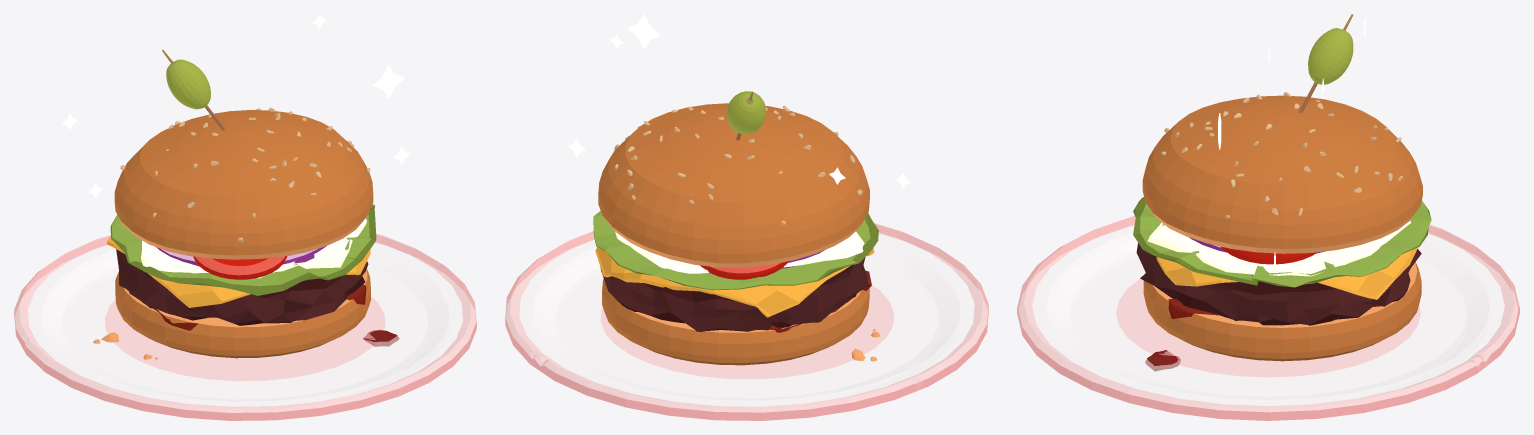
3 views of the same model, side by side, from view 1: azimuth 30°, elevation 25°; view 2: azimuth 150°, elevation 25°; view 3: azimuth 270°, elevation 25° (orthographic). The views are drawn at different scales.
Visible parts, largest first — view 1: plate _10, top bread_15, bottom bread_16, meat_7, lettuce_5, mayonnaise_6, cheese_2, olive_8, tomatoes_14, katsup_4, stars_12, sesame_11 (+1 smaller); view 2: plate _10, top bread_15, bottom bread_16, meat_7, lettuce_5, cheese_2, mayonnaise_6, olive_8, stars_12, sesame_11, tomatoes_14; view 3: plate _10, top bread_15, bottom bread_16, meat_7, lettuce_5, mayonnaise_6, cheese_2, olive_8, sesame_11, katsup_4, tomatoes_14.
Boxes of the visible parts, left/top/right/bottom form: plate _10: left=14, top=234, right=476, bottom=420; top bread_15: left=114, top=110, right=373, bottom=259; bottom bread_16: left=115, top=269, right=370, bottom=358; meat_7: left=116, top=249, right=368, bottom=325; lettuce_5: left=110, top=204, right=376, bottom=295; mayonnaise_6: left=141, top=218, right=366, bottom=278; cheese_2: left=107, top=237, right=370, bottom=307; olive_8: left=166, top=59, right=210, bottom=109; tomatoes_14: left=193, top=256, right=287, bottom=279; katsup_4: left=129, top=284, right=399, bottom=346; stars_12: left=62, top=14, right=410, bottom=198; sesame_11: left=120, top=107, right=370, bottom=242; plate _10: left=505, top=223, right=988, bottom=420; top bread_15: left=598, top=103, right=869, bottom=267; bottom bread_16: left=602, top=278, right=869, bottom=365; meat_7: left=600, top=257, right=868, bottom=331; lettuce_5: left=593, top=211, right=878, bottom=290; cheese_2: left=595, top=247, right=874, bottom=317; mayonnaise_6: left=615, top=231, right=864, bottom=273; olive_8: left=726, top=91, right=765, bottom=134; stars_12: left=568, top=14, right=910, bottom=188; sesame_11: left=614, top=105, right=862, bottom=225; tomatoes_14: left=700, top=261, right=788, bottom=279; plate _10: left=1017, top=215, right=1519, bottom=420; top bread_15: left=1142, top=95, right=1422, bottom=253; bottom bread_16: left=1143, top=262, right=1421, bottom=361; meat_7: left=1136, top=243, right=1421, bottom=325; lettuce_5: left=1133, top=197, right=1431, bottom=287; mayonnaise_6: left=1147, top=220, right=1410, bottom=276; cheese_2: left=1156, top=247, right=1417, bottom=299; olive_8: left=1308, top=28, right=1353, bottom=84; sesame_11: left=1161, top=92, right=1402, bottom=218; katsup_4: left=1145, top=299, right=1380, bottom=371; tomatoes_14: left=1221, top=246, right=1317, bottom=264.
Bounding box in the file's own units: 3.17 × 2.06 × 3.17.
